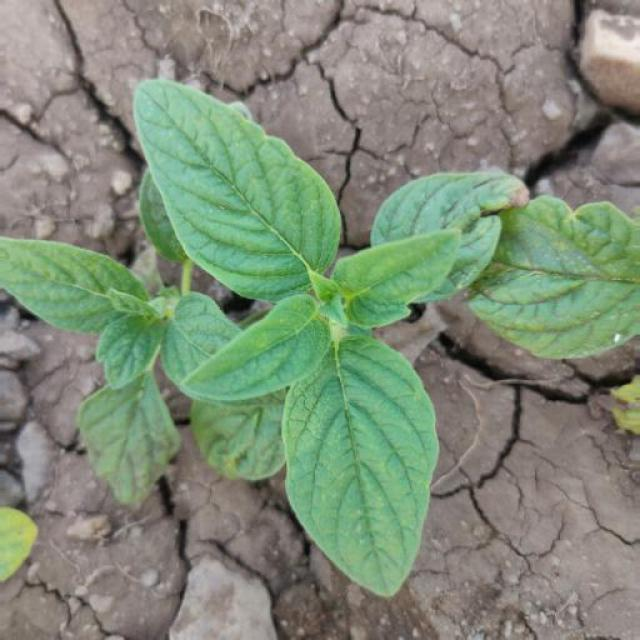crop: (24, 81, 640, 604)
